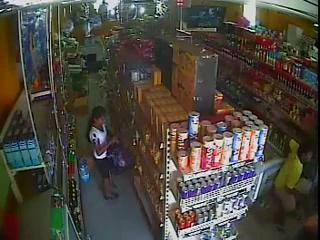Normal: (272, 139, 304, 193)
shoplifting: (88, 106, 121, 200)
